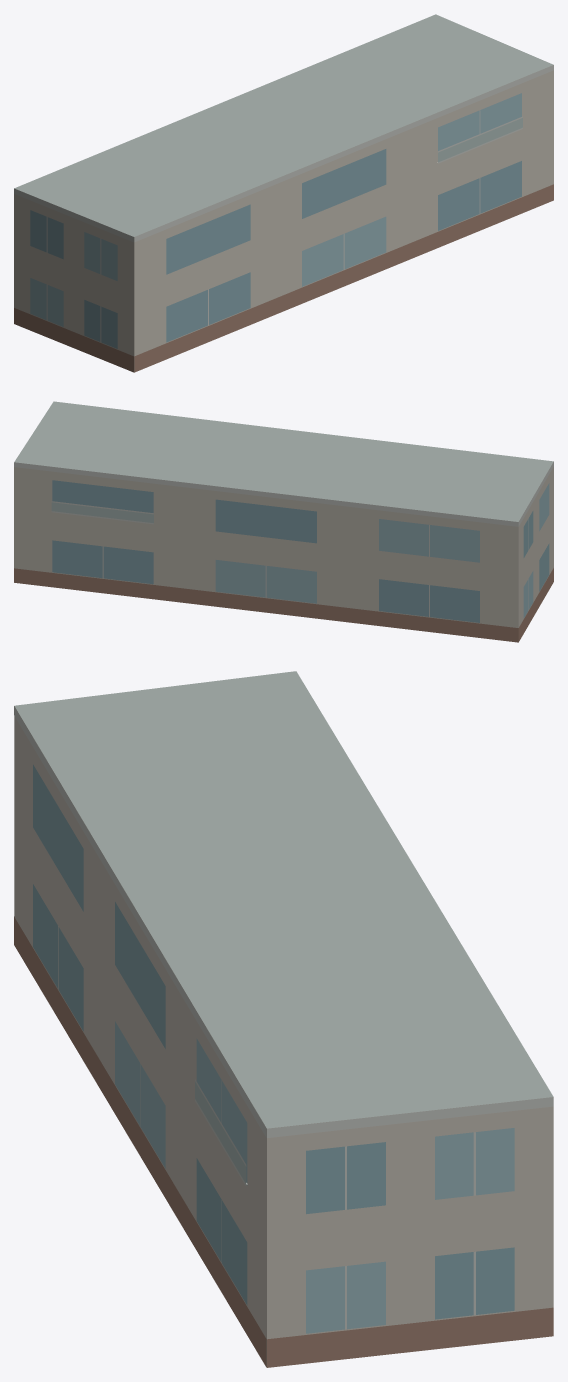
The model's file is survey-upis-32648486.glb.
3 renders of one model, top to bottom at view 1: azimuth 30°, elevation 25°; view 2: azimuth 150°, elevation 25°; view 3: azimuth 270°, elevation 25°, orthographic. The views are drawn at different scales.
Visible parts, largest first — view 1: survey-upis-32648486.tmp; view 2: survey-upis-32648486.tmp; view 3: survey-upis-32648486.tmp.
Part boxes in pixels (x1,y1,x2,y2): survey-upis-32648486.tmp: (14, 14, 553, 372); survey-upis-32648486.tmp: (14, 401, 553, 642); survey-upis-32648486.tmp: (14, 671, 553, 1367).
Size of the model in its own units: 25.04 by 6.1 by 12.48.
